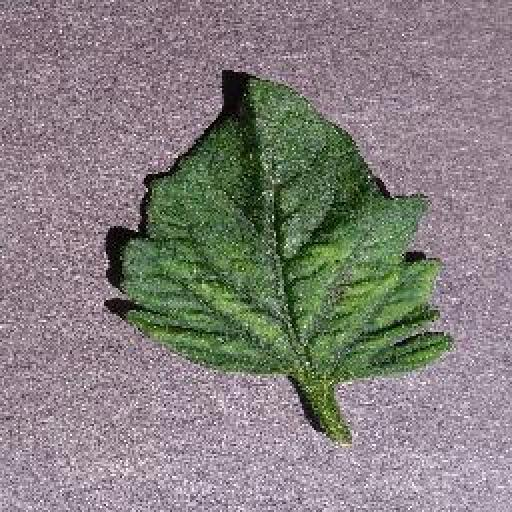disease_tomato: (111, 75, 459, 391)
